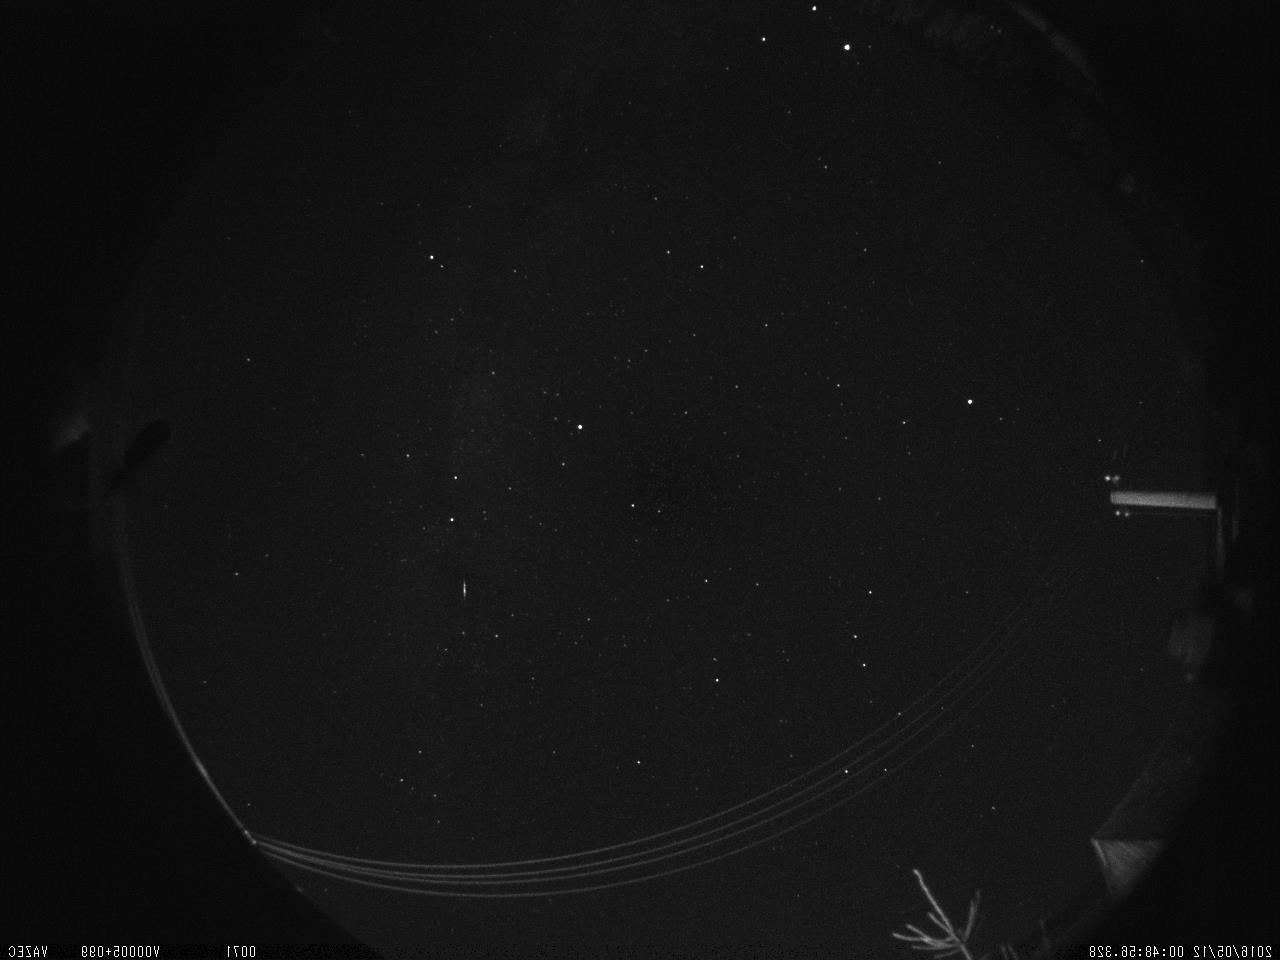meteor: (454, 573, 476, 608)
